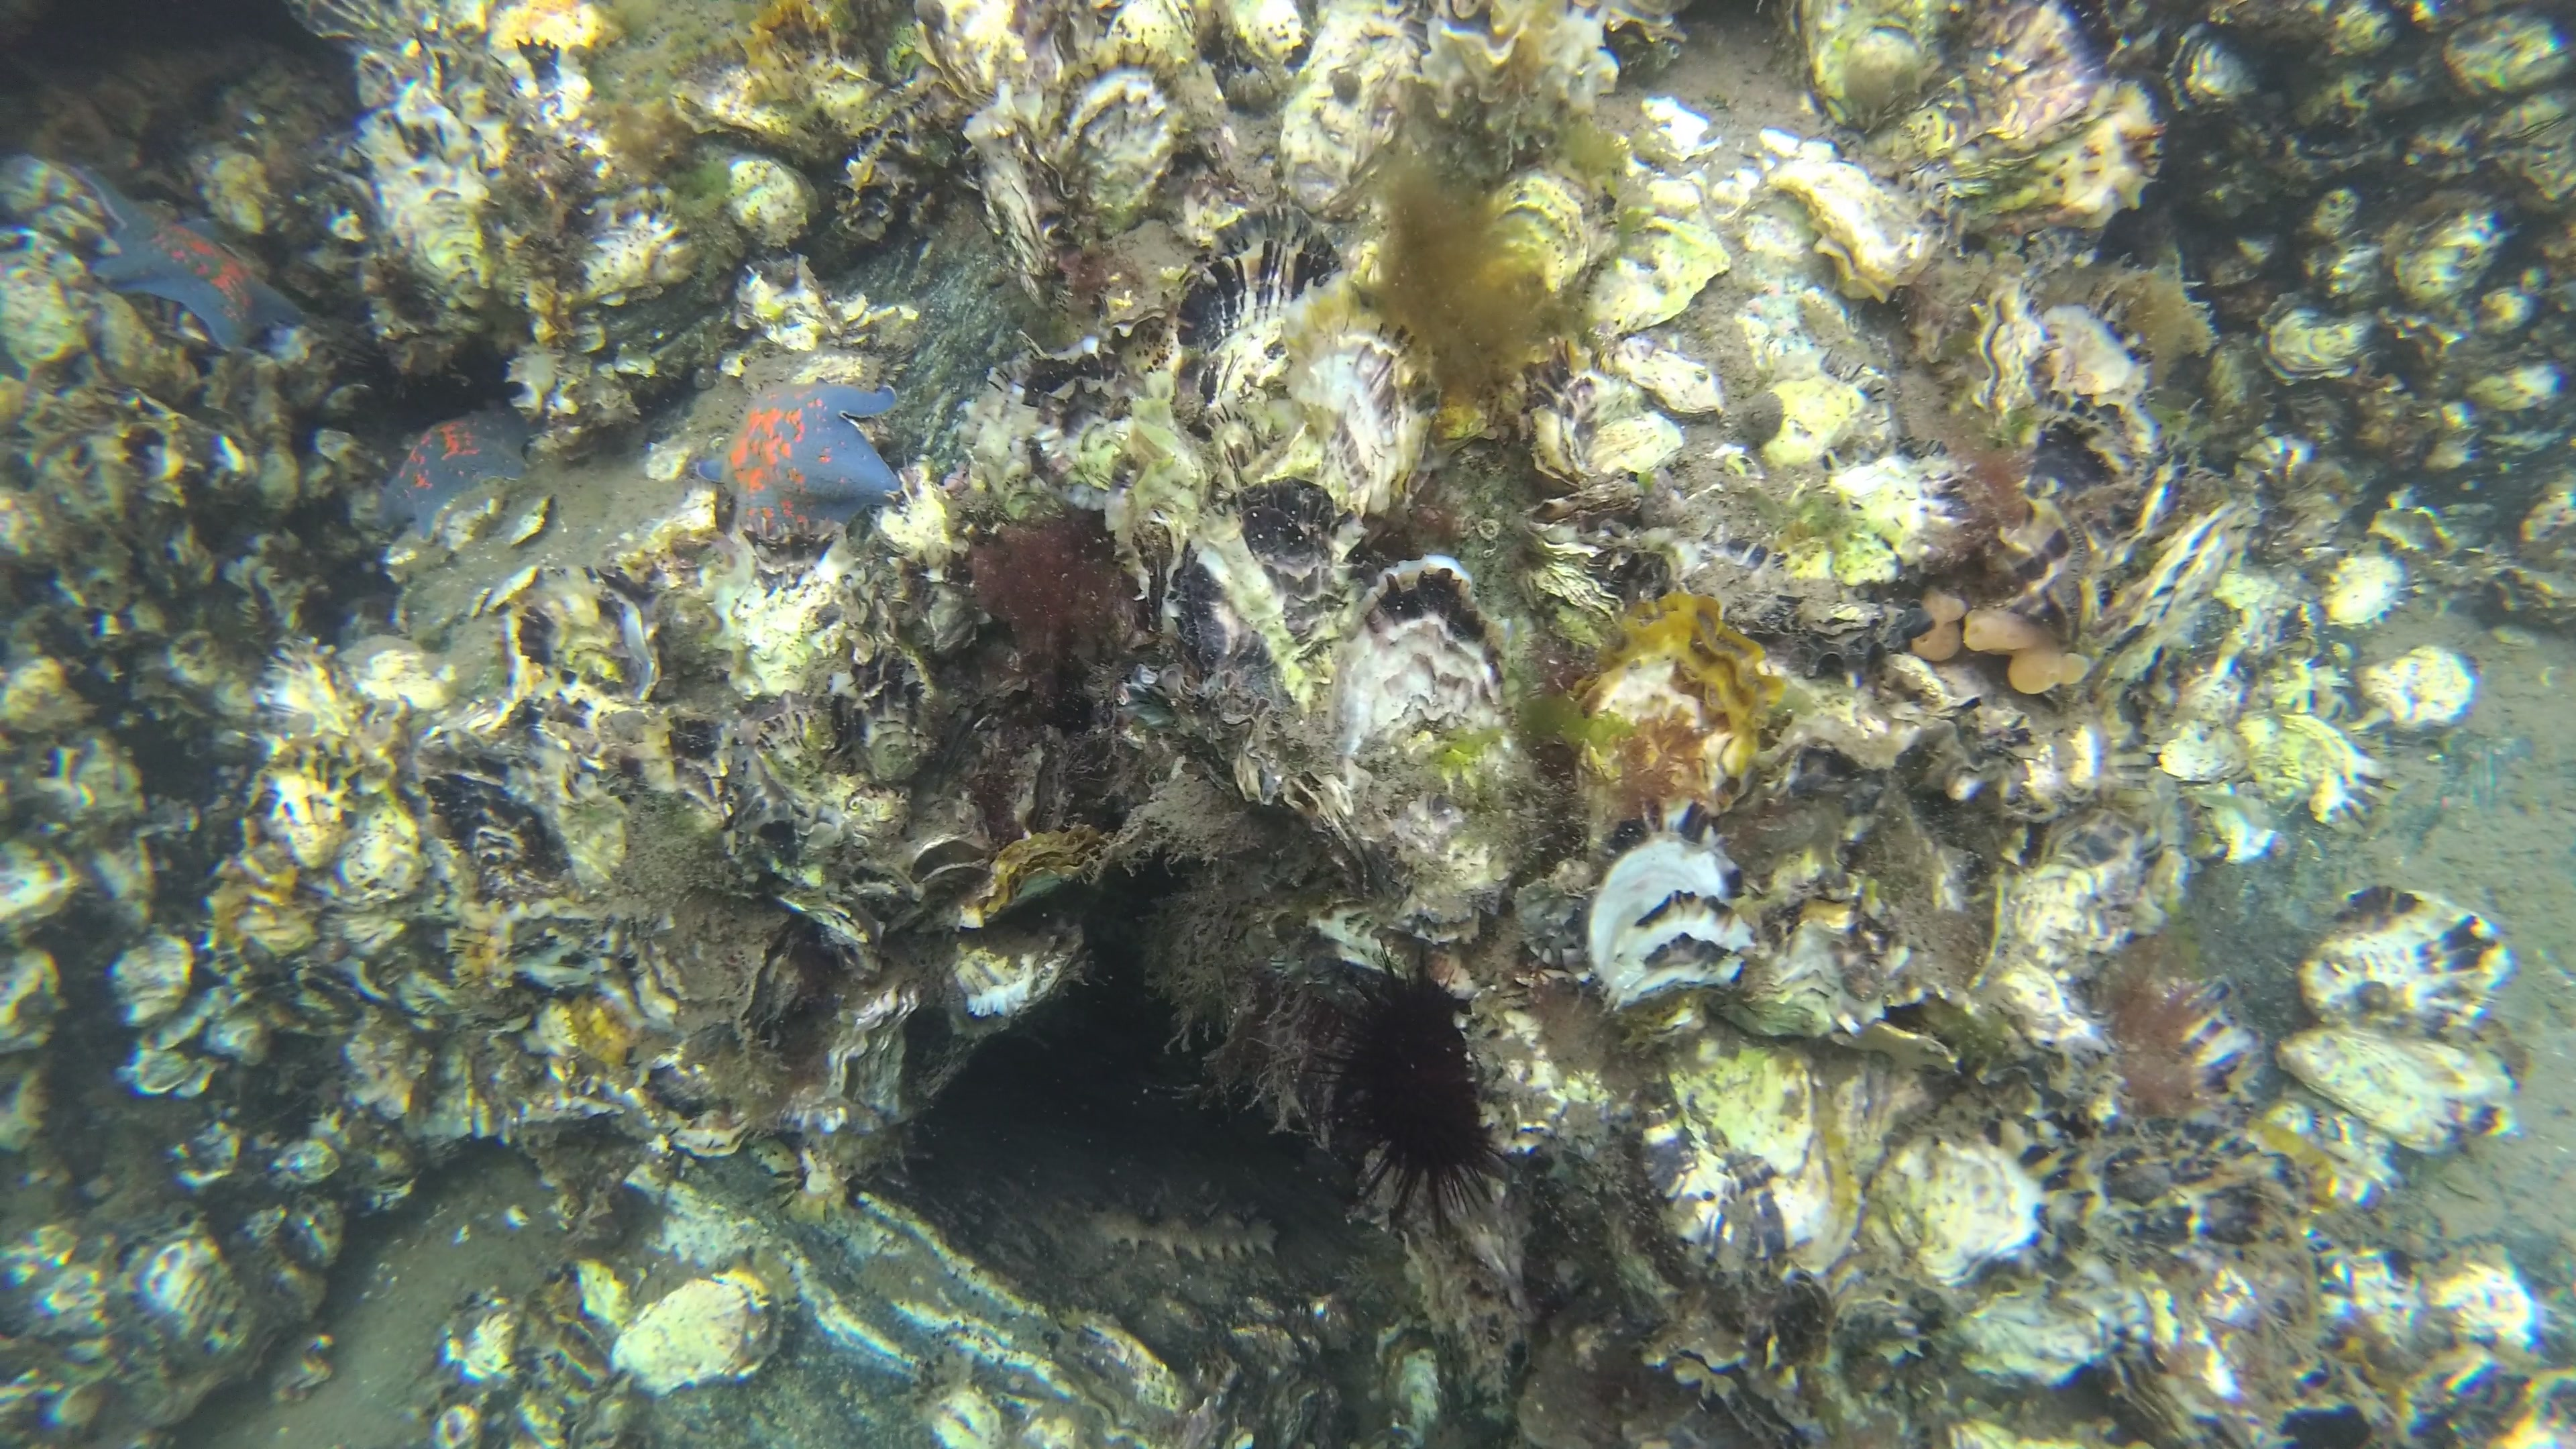echinus: (1302, 947, 1537, 1215)
holothurian: (1090, 1212, 1277, 1260)
starfish: (71, 166, 306, 356), (697, 382, 899, 547), (373, 419, 518, 538)
